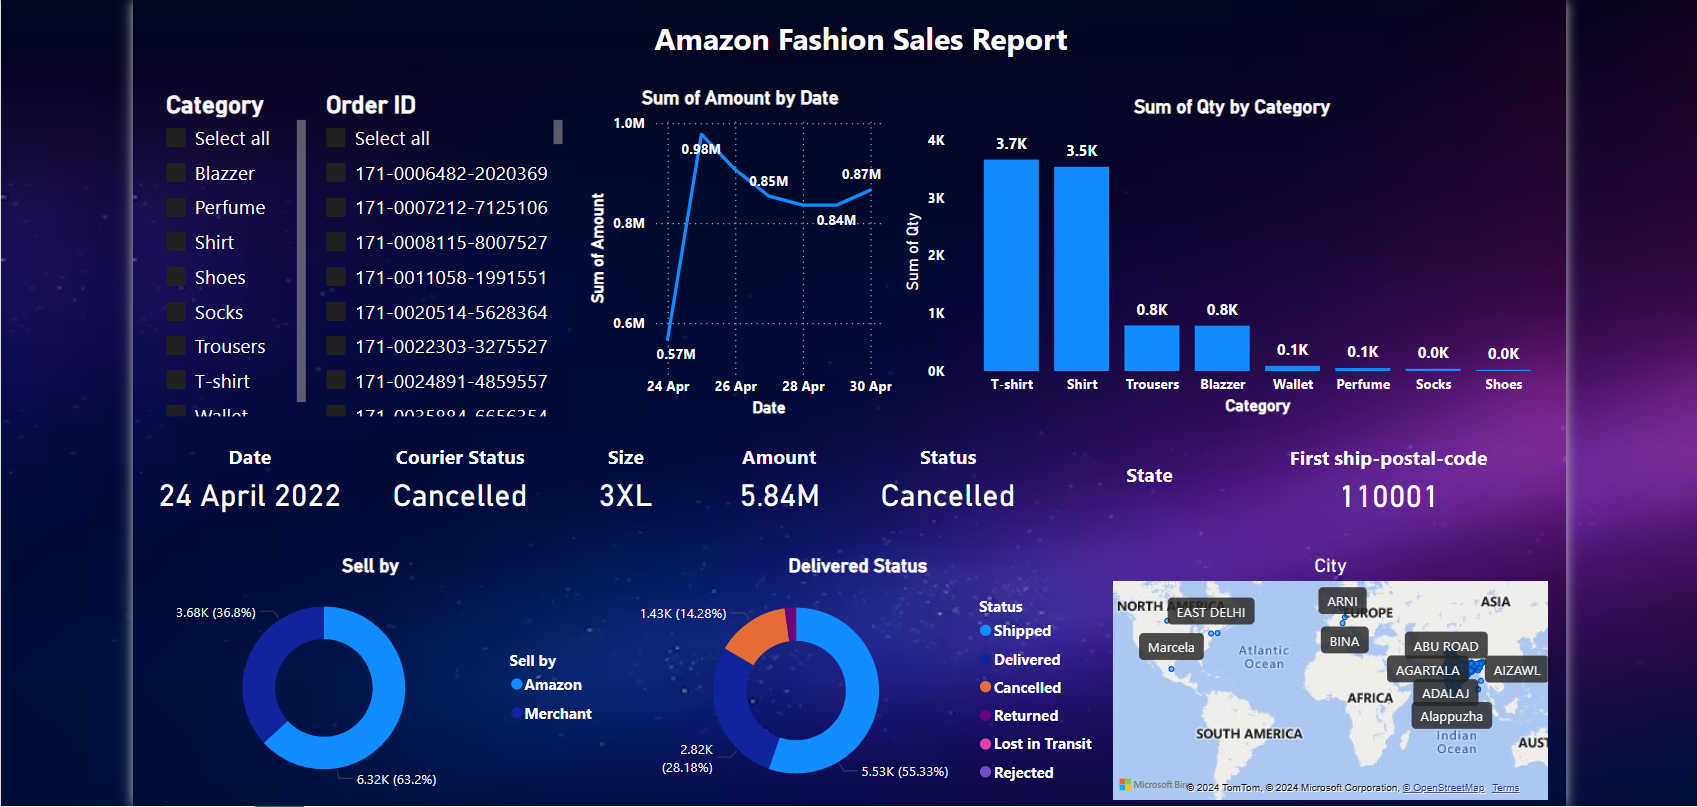

The page's visual inventory and layout, read from the dashboard file:
{"tool":"powerbi","page":{"name":"Page 1","canvas":[1280,720],"ordinal":0},"visuals":[{"type":"textbox","box":[402.1,11,496.7,49.4],"z":0},{"type":"slicer","title":"Category","fields":{"Values":["Amazon Sale Reportnew (Recovered).Category"]},"box":[16.8,75.6,142.9,301.4],"z":1000},{"type":"slicer","fields":{"Values":["Amazon Sale Reportnew (Recovered).Order ID"]},"box":[159.7,75.6,229.3,301.4],"z":2000},{"type":"cardVisual","fields":{"Data":["Amazon Sale Reportnew (Recovered).Date"]},"box":[3.5,376.7,202.3,102.3],"z":3000},{"type":"cardVisual","fields":{"Data":["Amazon Sale Reportnew (Recovered).Amount"]},"box":[510.5,376.7,134.9,102.3],"z":4000},{"type":"cardVisual","fields":{"Data":["Amazon Sale Reportnew (Recovered).Size"]},"box":[370.9,376.7,139.5,102.3],"z":5000},{"type":"donutChart","title":"Sell by","fields":{"Y":["Amazon Sale Reportnew (Recovered).Sell by"],"Category":["Amazon Sale Reportnew (Recovered).Sell by"]},"box":[0,494.2,424.4,220.9],"z":6000},{"type":"donutChart","title":"Delivered Status","fields":{"Y":["Amazon Sale Reportnew (Recovered).Status"],"Category":["Amazon Sale Reportnew (Recovered).Status"]},"box":[424.4,494.2,446.5,225.6],"z":7000},{"type":"clusteredColumnChart","fields":{"Category":["Amazon Sale Reportnew (Recovered).Category"],"Y":["Amazon Sale Reportnew (Recovered).Qty"]},"box":[683.2,85.3,596.8,290.6],"z":8000},{"type":"map","fields":{"Category":["Amazon Sale Reportnew (Recovered).ship-city"]},"box":[870.9,494.2,397.7,225.6],"z":9000},{"type":"cardVisual","fields":{"Data":["Amazon Sale Reportnew (Recovered).Courier Status"]},"box":[212.8,376.7,158.1,102.3],"z":10000},{"type":"cardVisual","fields":{"Data":["Amazon Sale Reportnew (Recovered).Status"]},"box":[647.7,376.7,161.6,102.3],"z":11000},{"type":"cardVisual","fields":{"Data":["Amazon Sale Reportnew (Recovered).ship-state"]},"box":[809.3,376.7,197.7,102.3],"z":11001},{"type":"cardVisual","fields":{"Data":["Amazon Sale Reportnew (Recovered).ship-postal-code"]},"box":[1007.4,375.8,229.3,103.3],"z":11002},{"type":"lineChart","fields":{"Y":["Amazon Sale Reportnew (Recovered).Amount"],"Category":["Amazon Sale Reportnew (Recovered).Date"]},"box":[402.3,76.8,281,300.2],"z":11003}]}

Visuals, with their boxes on the page's 1280x720 design canvas (x1, y1, x2, y2). These are canvas units, not pixel positions in the 1697x807 screenshot, which may show the page scaled, cropped or inside an application window:
textbox: <region>402, 11, 899, 60</region>
"Category" slicer: <region>17, 76, 160, 377</region>
slicer - Amazon Sale Reportnew (Recovered).Order ID: <region>160, 76, 389, 377</region>
cardVisual - Amazon Sale Reportnew (Recovered).Date: <region>4, 377, 206, 479</region>
cardVisual - Amazon Sale Reportnew (Recovered).Amount: <region>510, 377, 645, 479</region>
cardVisual - Amazon Sale Reportnew (Recovered).Size: <region>371, 377, 510, 479</region>
"Sell by" donutChart: <region>0, 494, 424, 715</region>
"Delivered Status" donutChart: <region>424, 494, 871, 720</region>
clusteredColumnChart - Amazon Sale Reportnew (Recovered).Category x Amazon Sale Reportnew (Recovered).Qty: <region>683, 85, 1280, 376</region>
map - Amazon Sale Reportnew (Recovered).ship-city: <region>871, 494, 1269, 720</region>
cardVisual - Amazon Sale Reportnew (Recovered).Courier Status: <region>213, 377, 371, 479</region>
cardVisual - Amazon Sale Reportnew (Recovered).Status: <region>648, 377, 809, 479</region>
cardVisual - Amazon Sale Reportnew (Recovered).ship-state: <region>809, 377, 1007, 479</region>
cardVisual - Amazon Sale Reportnew (Recovered).ship-postal-code: <region>1007, 376, 1237, 479</region>
lineChart - Amazon Sale Reportnew (Recovered).Amount x Amazon Sale Reportnew (Recovered).Date: <region>402, 77, 683, 377</region>
